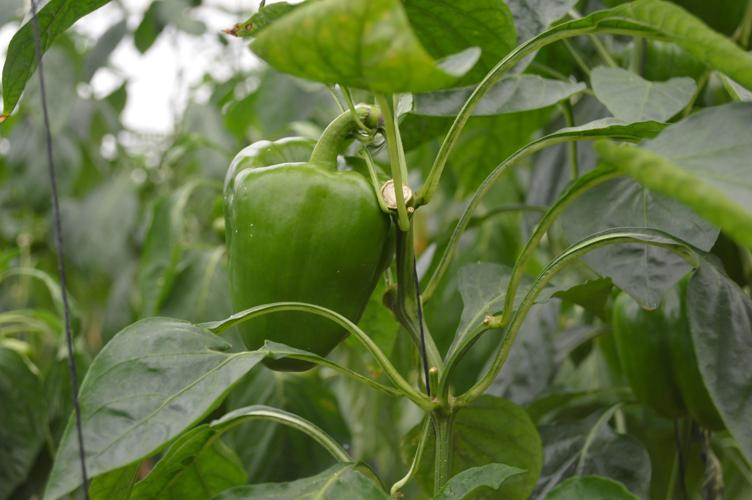BellPepper: (226, 136, 388, 357)
